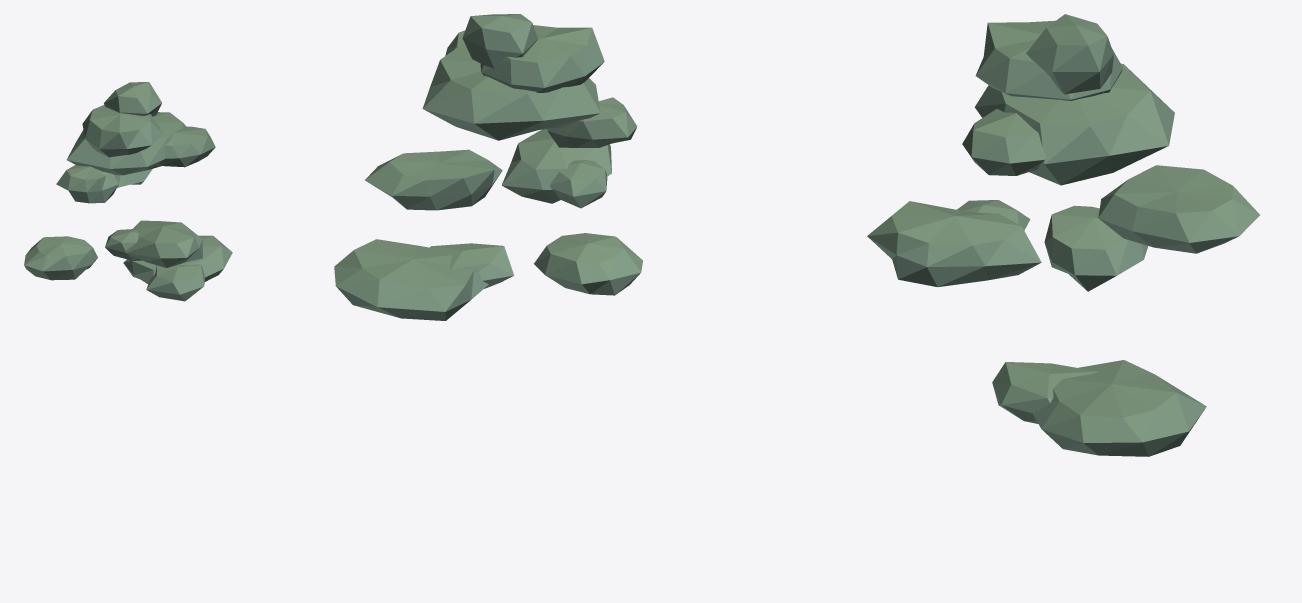
The model's file is ShorePine2_lite_leaf.glb.
The picture shows the model from 3 angles, left to right: view 1: azimuth 30°, elevation 25°; view 2: azimuth 150°, elevation 25°; view 3: azimuth 270°, elevation 25°; orthographic projection. The views are drawn at different scales.
Visible parts, largest first — view 1: ShorePine2_lite_leaf; view 2: ShorePine2_lite_leaf; view 3: ShorePine2_lite_leaf.
Part boxes in pixels (x1,y1,x2,y2): ShorePine2_lite_leaf: (24,82,232,301); ShorePine2_lite_leaf: (334,14,642,320); ShorePine2_lite_leaf: (867,14,1259,456).
Bounding box in the file's own units: 15.11 × 20.45 × 10.93.
